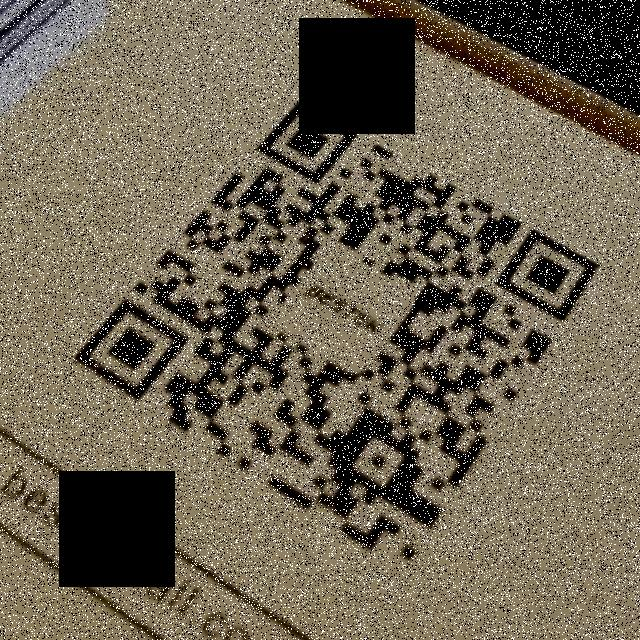QR_CODE: (62, 82, 606, 574)
